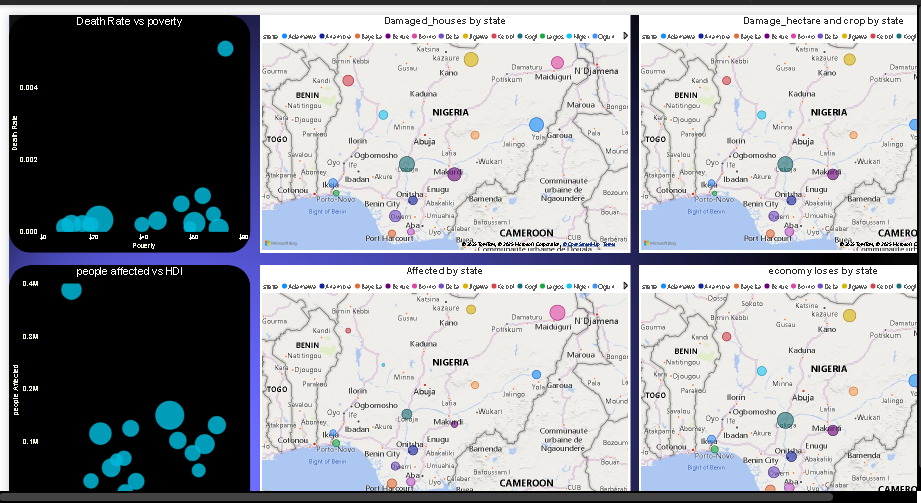

Layout of this report page (visuals, bound fields, positions):
{"tool":"powerbi","page":{"name":"geo analysis","canvas":[2000,1000],"ordinal":2},"visuals":[{"type":"map","title":"Damaged_houses by state","fields":{"Category":["lgas.state_name"],"Series":["flood.state"],"Size":["Sum(flood.damaged_houses)"]},"box":[502.4,0,741.5,475.6],"z":0},{"type":"map","title":"Damage_hectare and crop by state","fields":{"Series":["flood.state"],"Size":["Sum(flood.crop_damage_ha)"],"Category":["lgas.state_name"]},"box":[1261,0,739,475.6],"z":1000},{"type":"shape","box":[0,0,482.9,475.6],"z":2000},{"type":"shape","box":[0,500,482.9,500],"z":3000},{"type":"scatterChart","title":"people affected vs HDI","fields":{"Size":["Sum(flood.economic_loss_usd)"],"X":["flood.HDI"],"Y":["Sum(flood.affected_population)"]},"box":[2,500,482,500],"z":4000},{"type":"map","title":"economy loses by state","fields":{"Category":["lgas.state_name"],"Series":["flood.state"],"Size":["Sum(flood.economic_loss_usd)"]},"box":[1261,500,739,500],"z":5000},{"type":"map","title":"Affected by state","fields":{"Category":["lgas.state_name"],"Series":["flood.state"],"Size":["Sum(flood.affected_population)"]},"box":[502.4,500,741.5,475.6],"z":6000},{"type":"scatterChart","title":" Death Rate vs  poverty","fields":{"Size":["Sum(flood.economic_loss_usd)"],"X":["flood.poverty_pct"],"Y":["measure.Death Rate"]},"box":[0,0,483.3,475],"z":8000}]}

Visuals, with their boxes on the page's 2000x1000 design canvas (x1, y1, x2, y2). These are canvas units, not pixel positions in the 921x503 screenshot, which may show the page scaled, cropped or inside an application window:
"Damaged_houses by state" map: [x1=502, y1=0, x2=1244, y2=476]
"Damage_hectare and crop by state" map: [x1=1261, y1=0, x2=2000, y2=476]
shape: [x1=0, y1=0, x2=483, y2=476]
shape: [x1=0, y1=500, x2=483, y2=1000]
"people affected vs HDI" scatterChart: [x1=2, y1=500, x2=484, y2=1000]
"economy loses by state" map: [x1=1261, y1=500, x2=2000, y2=1000]
"Affected by state" map: [x1=502, y1=500, x2=1244, y2=976]
" Death Rate vs  poverty" scatterChart: [x1=0, y1=0, x2=483, y2=475]
